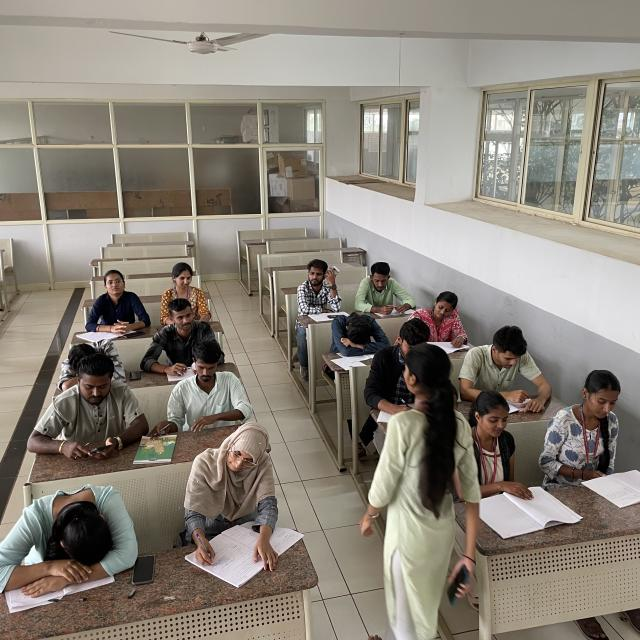Reading: (547, 364, 637, 494), (454, 390, 544, 516), (459, 323, 554, 415)
Sleeping: (4, 478, 142, 578), (326, 307, 390, 354)
Using Phone: (38, 356, 154, 462), (294, 257, 345, 311)
Writing: (183, 422, 280, 572), (408, 285, 473, 353)
